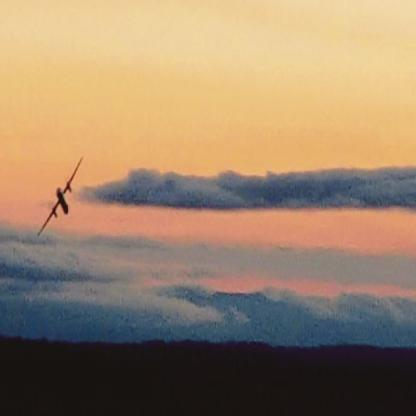CIV_Plane: (34, 152, 82, 237)
